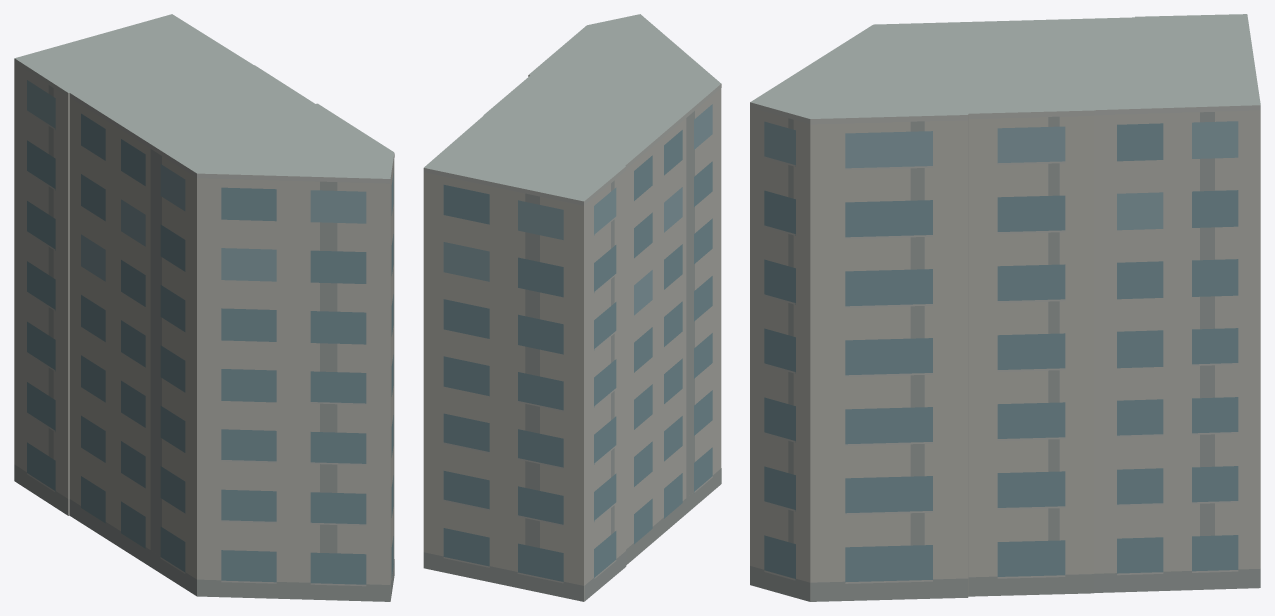
File: survey-upis-32928861.glb
3 renders of one model, left to right at view 1: azimuth 30°, elevation 25°; view 2: azimuth 150°, elevation 25°; view 3: azimuth 270°, elevation 25°, orthographic. The views are drawn at different scales.
Visible parts, largest first — view 1: survey-upis-32928861.tmp; view 2: survey-upis-32928861.tmp; view 3: survey-upis-32928861.tmp.
Boxes of the visible parts, x1,y1,x2,y2 form: survey-upis-32928861.tmp: (14,14,394,601); survey-upis-32928861.tmp: (423,14,721,601); survey-upis-32928861.tmp: (750,14,1260,601).
Bounding box in the file's own units: 10.49 × 22.45 × 21.53.
